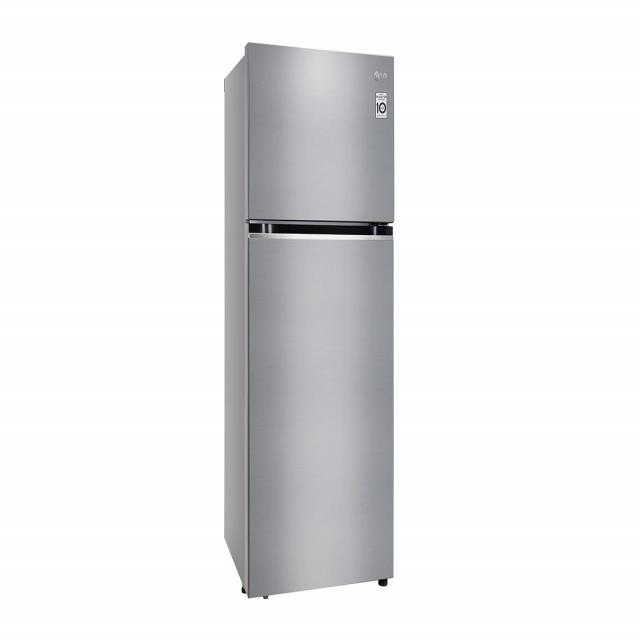refrigerator: (233, 42, 396, 597)
